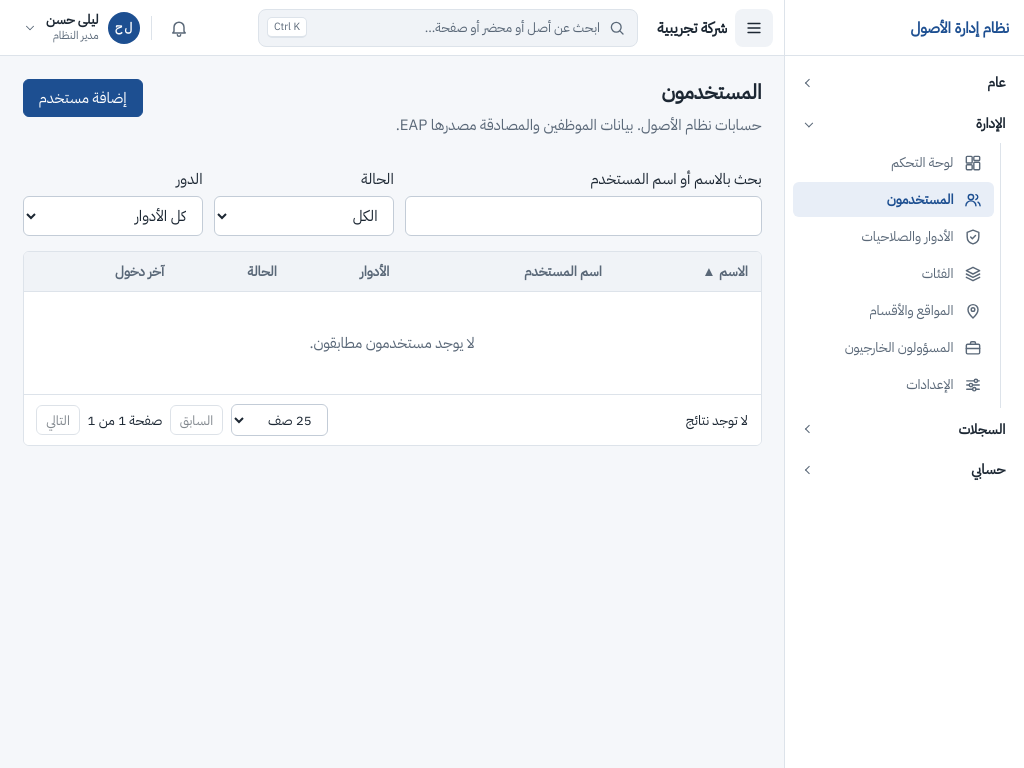
Test: Users › adds a user from the EAP directory with the chosen roles
Click the button "إضافة مستخدم" at (83, 98), box left=22, top=78, right=143, bottom=116
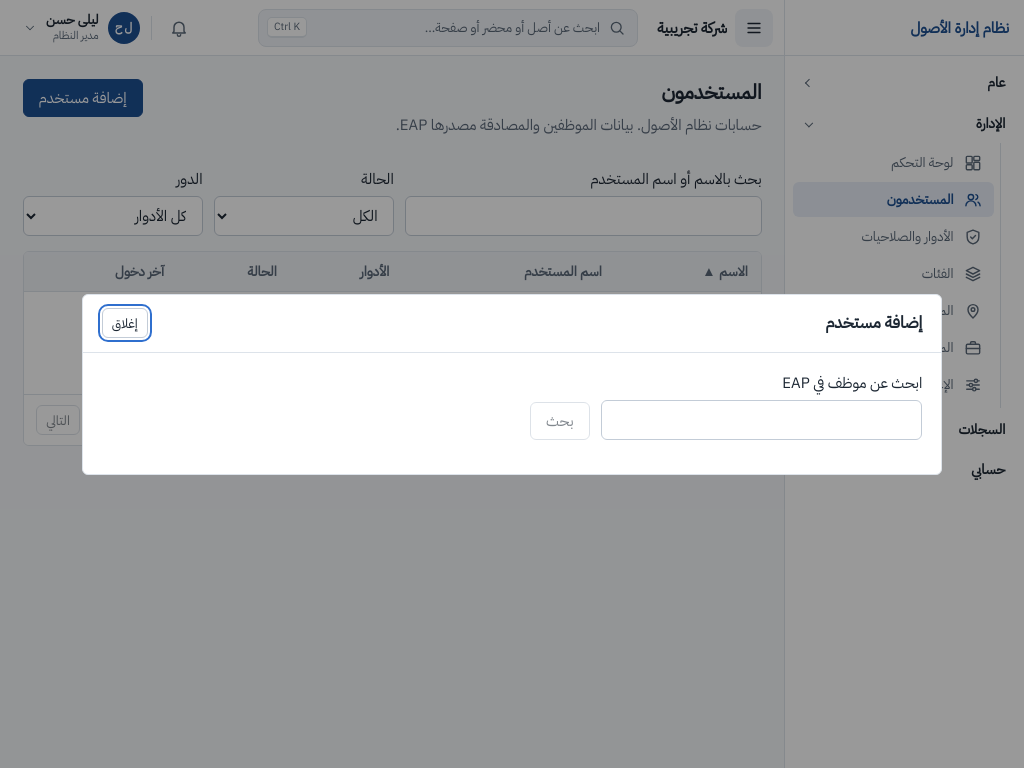
Type "رنا" into the field labelled "ابحث عن موظف في EAP" at (762, 420), box left=601, top=400, right=922, bottom=440
Click the button "بحث" at (560, 421), box left=530, top=402, right=590, bottom=440
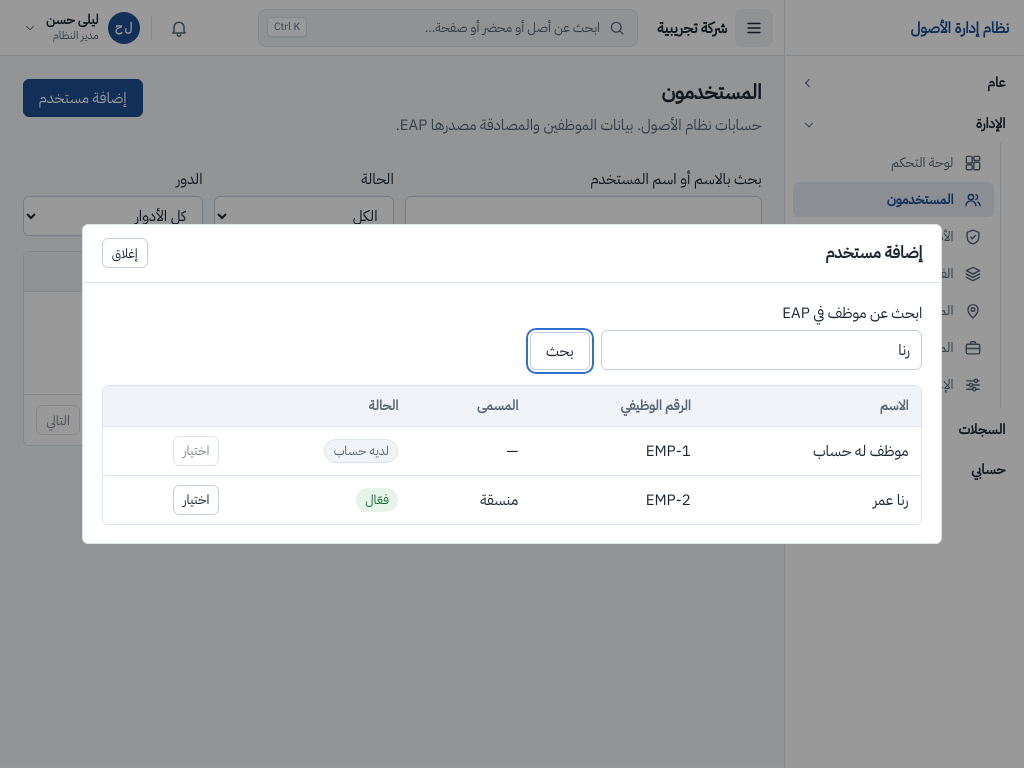
expect the button "اختيار" in the row of "موظف له حساب" is disabled: met, box left=173, top=436, right=219, bottom=466
Click the button "اختيار" in the row of "رنا عمر" at (196, 500), box left=173, top=484, right=219, bottom=514
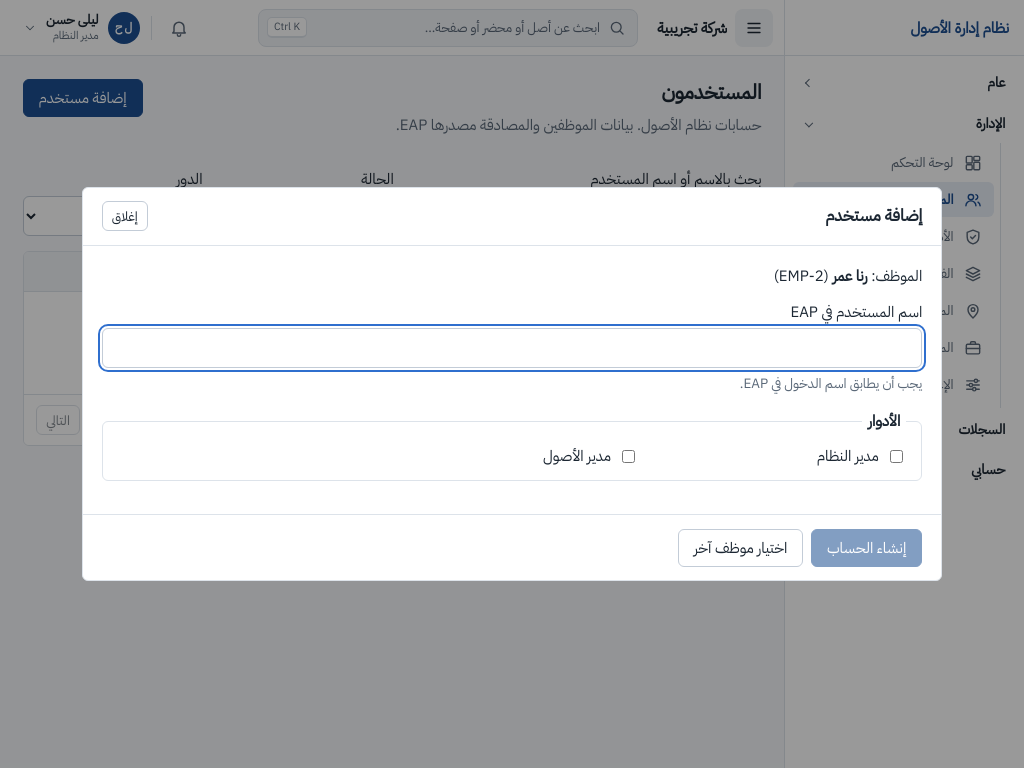
Type "rana" into the field labelled "اسم المستخدم في EAP" at (512, 348), box left=102, top=328, right=922, bottom=368
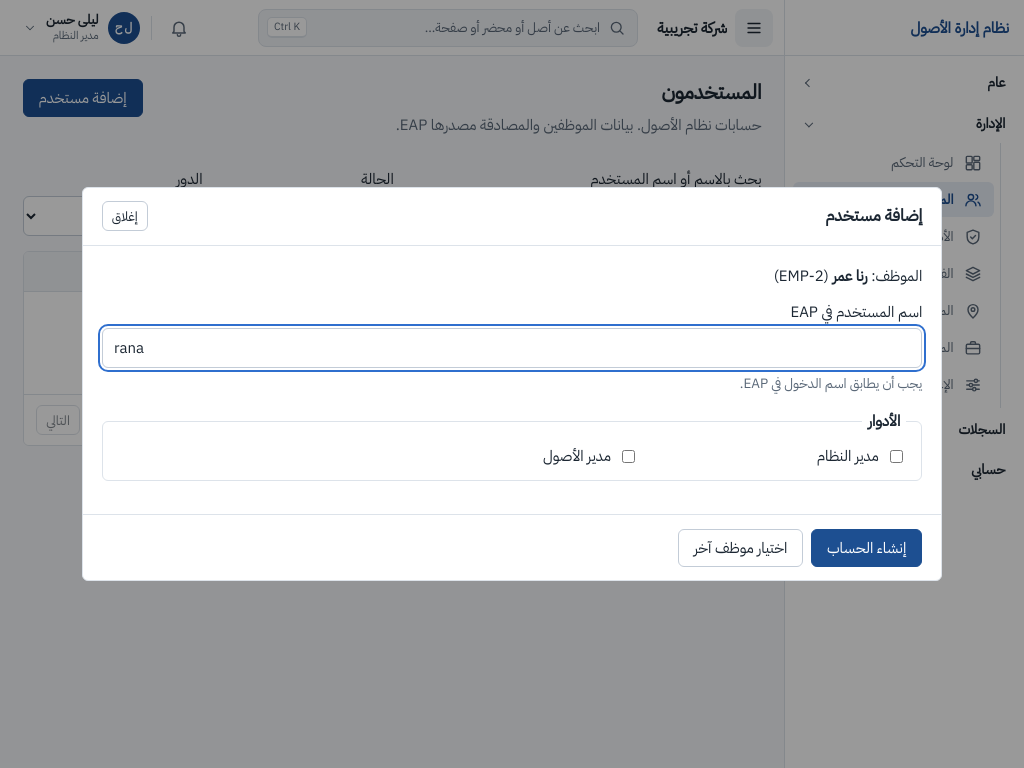
Click the checkbox labelled "مدير الأصول" at (629, 456), box left=622, top=450, right=635, bottom=463
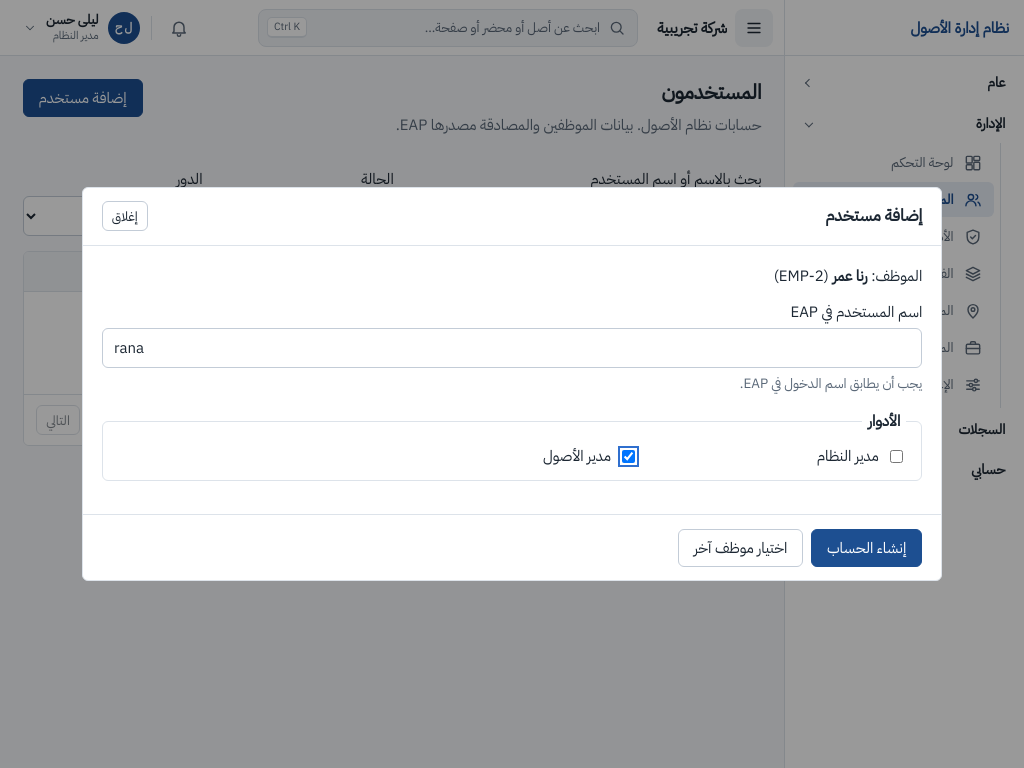
Click the button "إنشاء الحساب" at (867, 548), box left=811, top=529, right=922, bottom=567
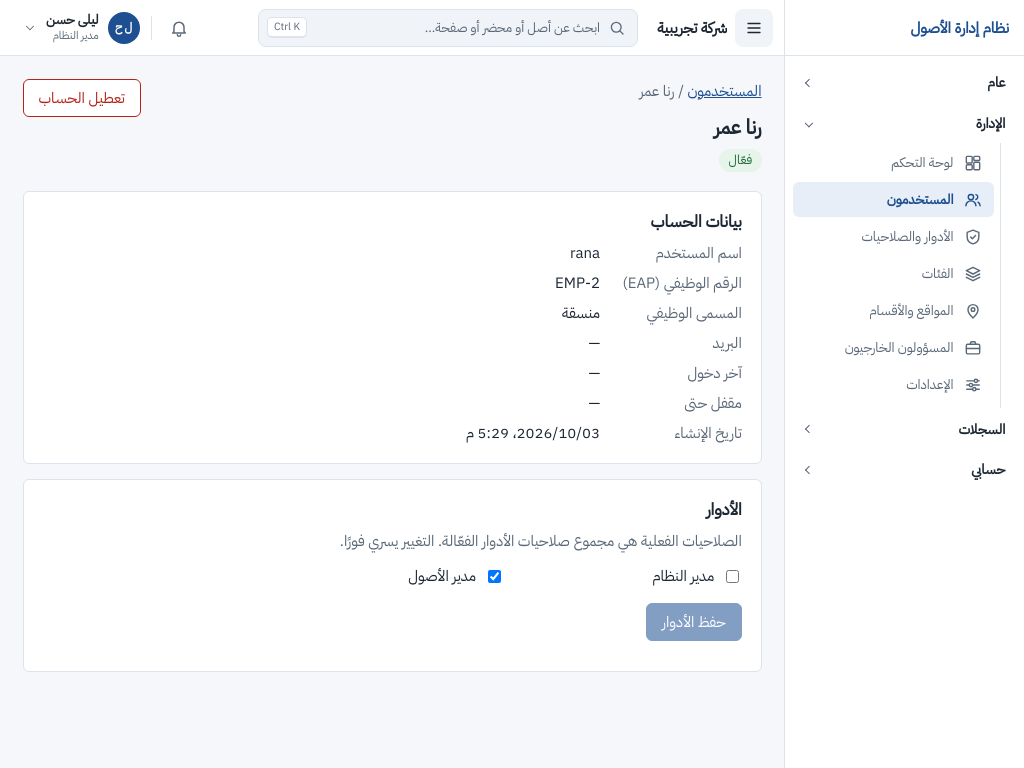
expect the heading "رنا عمر" is shown: met, box left=714, top=112, right=762, bottom=142
